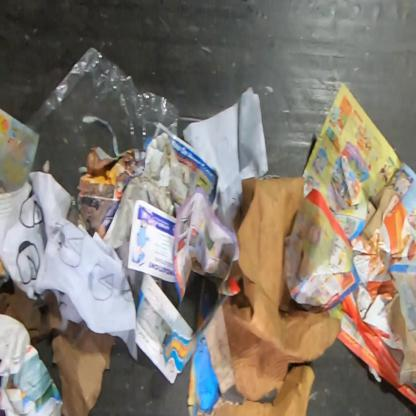cardboard: (209, 176, 342, 415), (0, 281, 119, 415), (144, 131, 200, 206), (203, 304, 235, 394)
soft_plastic: (0, 46, 180, 227)
